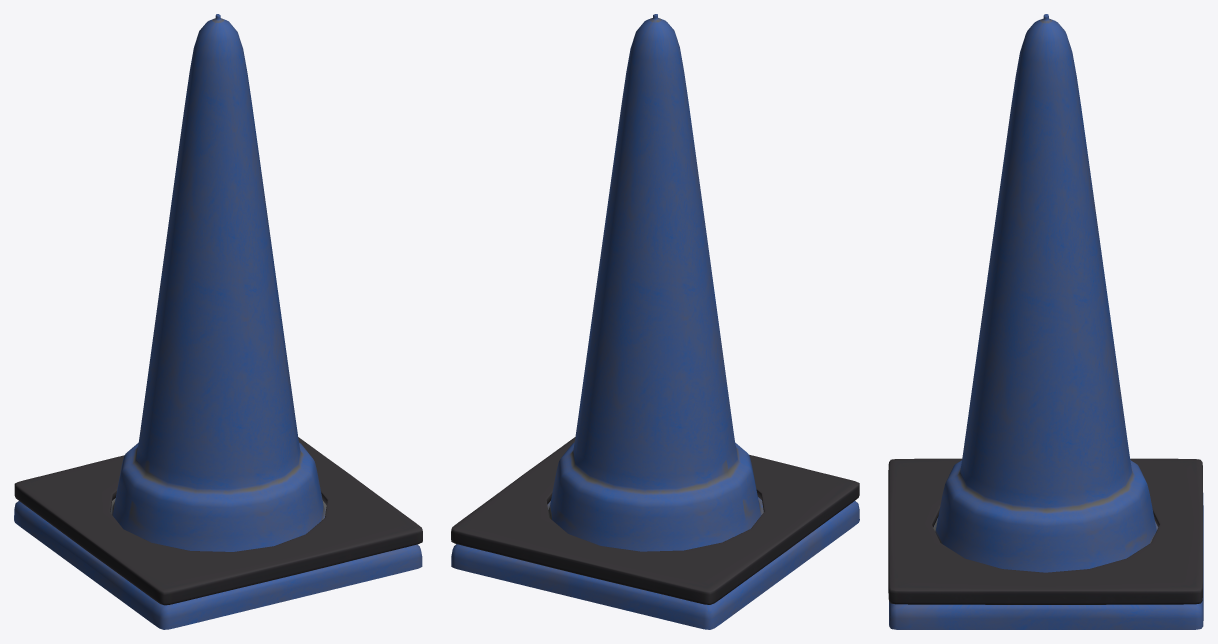
File: ColorCone_Basic_Dirty_Blue.fbx
3 renders of one model, left to right at view 1: azimuth 30°, elevation 25°; view 2: azimuth 150°, elevation 25°; view 3: azimuth 270°, elevation 25°, orthographic. The views are drawn at different scales.
Visible parts, largest first — view 1: ColorCone_Basic_Dirty_Blue; view 2: ColorCone_Basic_Dirty_Blue; view 3: ColorCone_Basic_Dirty_Blue.
Part boxes in pixels (x1,y1,x2,y2): ColorCone_Basic_Dirty_Blue: (14, 14, 422, 629); ColorCone_Basic_Dirty_Blue: (451, 14, 859, 629); ColorCone_Basic_Dirty_Blue: (888, 14, 1203, 629).
Bounding box in the file's own units: 38.04 × 38.06 × 73.14.
1 material, 1 textured.
